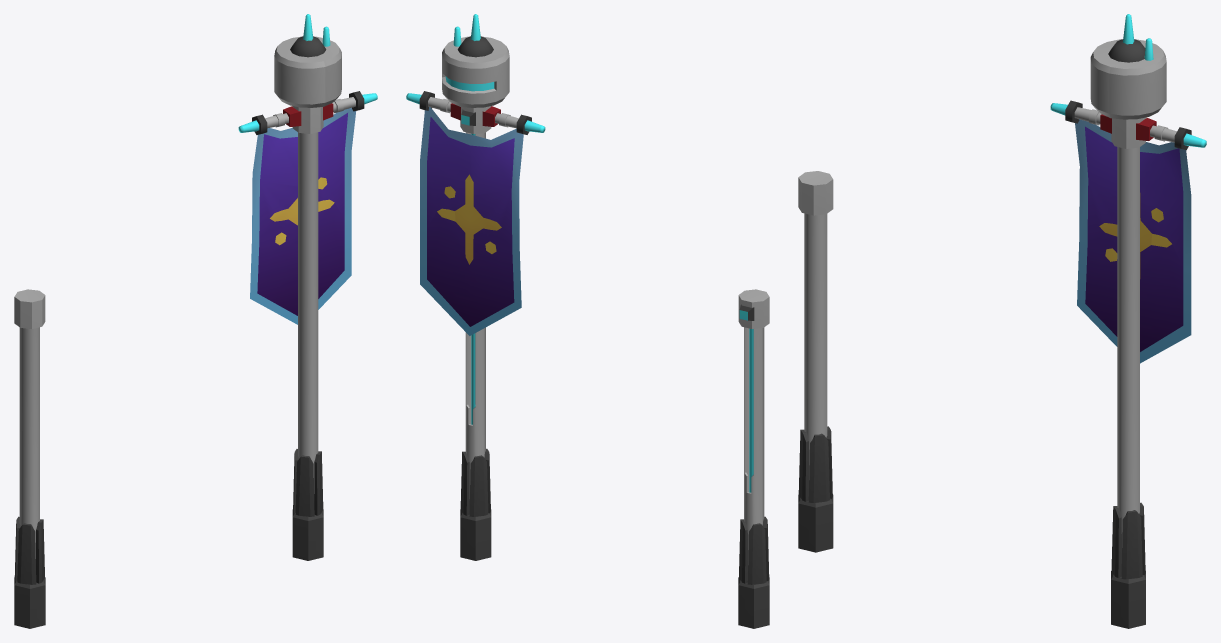
The model's file is plusgate_t1_a5.fbx.
3 views of the same model, side by side, from view 1: azimuth 30°, elevation 25°; view 2: azimuth 150°, elevation 25°; view 3: azimuth 330°, elevation 25° (orthographic). The views are drawn at different scales.
Parts seen in each view (by area): view 1: plusgate_t1_a5_m, plusgate_t1_a5_m2; view 2: plusgate_t1_a5_m, plusgate_t1_a5_m2; view 3: plusgate_t1_a5_m, plusgate_t1_a5_m2.
Part boxes in pixels (x1,y1,x2,y2): plusgate_t1_a5_m: (238, 14, 377, 560); plusgate_t1_a5_m2: (14, 289, 45, 628); plusgate_t1_a5_m: (406, 14, 545, 560); plusgate_t1_a5_m2: (738, 289, 769, 628); plusgate_t1_a5_m: (1050, 14, 1206, 628); plusgate_t1_a5_m2: (798, 171, 833, 552).
Size of the model in its own units: 6.08 by 8.64 by 0.9932.
